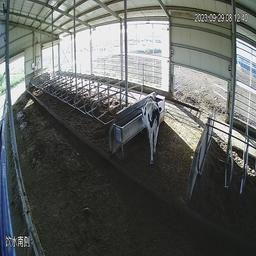cow: (141, 80, 167, 164)
